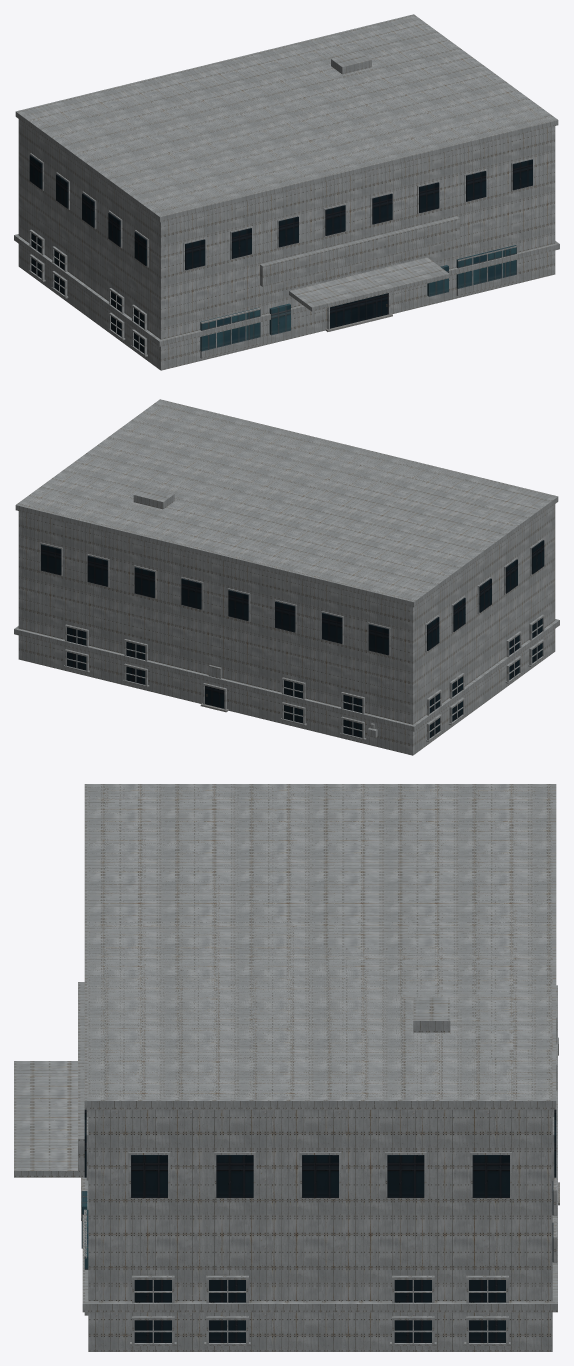
Rendered from ironport-cinema-center_lod0.gltf.
3 renders of one model, top to bottom at view 1: azimuth 30°, elevation 25°; view 2: azimuth 150°, elevation 25°; view 3: azimuth 270°, elevation 25°, orthographic. The views are drawn at different scales.
Visible parts, largest first — view 1: ironport-cinema-center_main, ironport-cinema-center__parapet, ironport-cinema-center_fen_07-glass-curtain-blue_1_t, ironport-cinema-center_fen_14-steel-panel_0, ironport-cinema-center__marquee_band, ironport-cinema-center__marquee, ironport-cinema-center_fen_07-glass-curtain-blue_4, ironport-cinema-center__trim_band, ironport-cinema-center__hvac, ironport-cinema-center__poster_a; view 2: ironport-cinema-center_main, ironport-cinema-center__parapet, ironport-cinema-center_fen_07-glass-curtain-blue_1_t, ironport-cinema-center_fen_14-steel-panel_0, ironport-cinema-center__trim_band, ironport-cinema-center__hvac; view 3: ironport-cinema-center_main, ironport-cinema-center__parapet, ironport-cinema-center_fen_07-glass-curtain-blue_1_t, ironport-cinema-center_fen_14-steel-panel_0, ironport-cinema-center__marquee, ironport-cinema-center__trim_band, ironport-cinema-center__hvac, ironport-cinema-center__marquee_band.
Boxes of the visible parts, x1,y1,x2,y2 form: ironport-cinema-center_main: (18,15,555,370); ironport-cinema-center__parapet: (15,14,558,222); ironport-cinema-center_fen_07-glass-curtain-blue_1_t: (29,155,532,353); ironport-cinema-center_fen_14-steel-panel_0: (28,153,533,358); ironport-cinema-center__marquee_band: (260,216,459,286); ironport-cinema-center__marquee: (289,257,449,311); ironport-cinema-center_fen_07-glass-curtain-blue_4: (200,245,516,351); ironport-cinema-center__trim_band: (14,234,559,346); ironport-cinema-center__hvac: (331,51,371,74); ironport-cinema-center__poster_a: (269,303,290,335); ironport-cinema-center_main: (18,400,555,755); ironport-cinema-center__parapet: (15,399,558,607); ironport-cinema-center_fen_07-glass-curtain-blue_1_t: (41,540,544,738); ironport-cinema-center_fen_14-steel-panel_0: (40,538,545,741); ironport-cinema-center__trim_band: (14,619,559,731); ironport-cinema-center__hvac: (133,486,174,509); ironport-cinema-center_main: (88,785,552,1351); ironport-cinema-center__parapet: (84,784,556,1109); ironport-cinema-center_fen_07-glass-curtain-blue_1_t: (84,1109,556,1342); ironport-cinema-center_fen_14-steel-panel_0: (84,999,558,1345); ironport-cinema-center__marquee: (14,1061,84,1177); ironport-cinema-center__trim_band: (82,985,557,1312); ironport-cinema-center__hvac: (413,997,450,1032); ironport-cinema-center__marquee_band: (78,982,84,1172).
Bounding box in the file's own units: 40.6 × 15.7 × 29.4.
